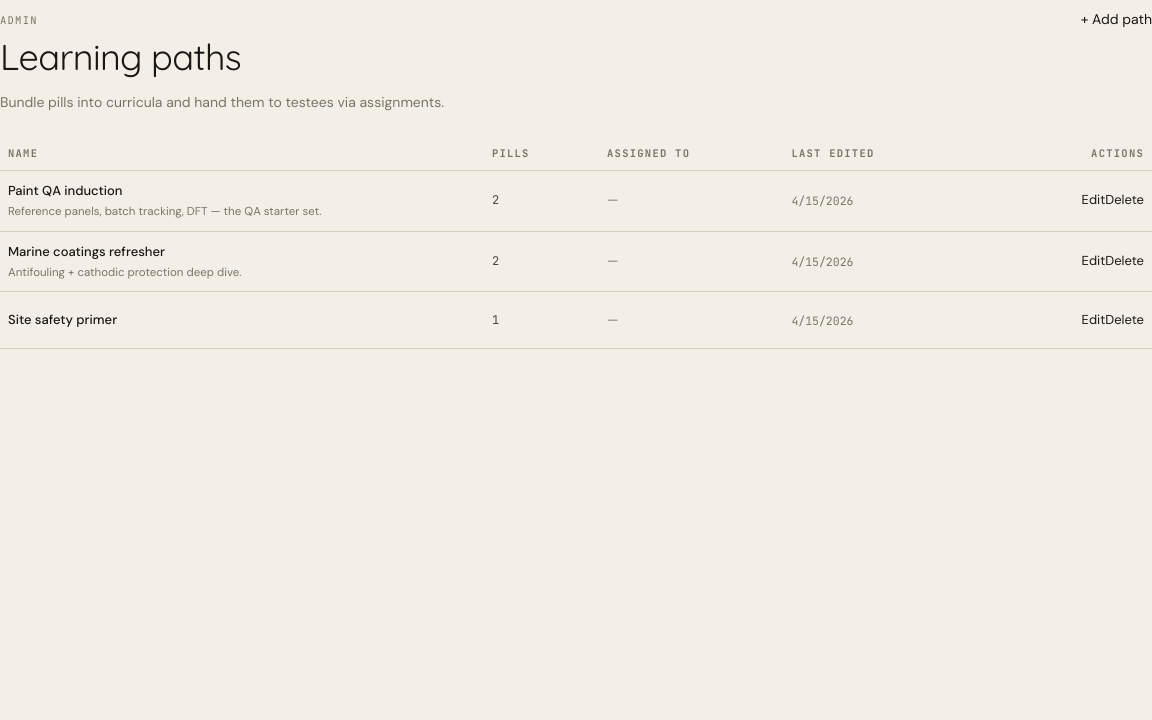
paths list — Delete confirmation flow › Cancel closes modal without firing DELETE
The width and height of the screenshot is (1152, 720).
Check: the text "Paint QA induction" is shown, box [8,182,122,198]
Click the button "Delete" in the row of "Paint QA induction" at coordinates (1125, 200), box [1105,182,1144,218]
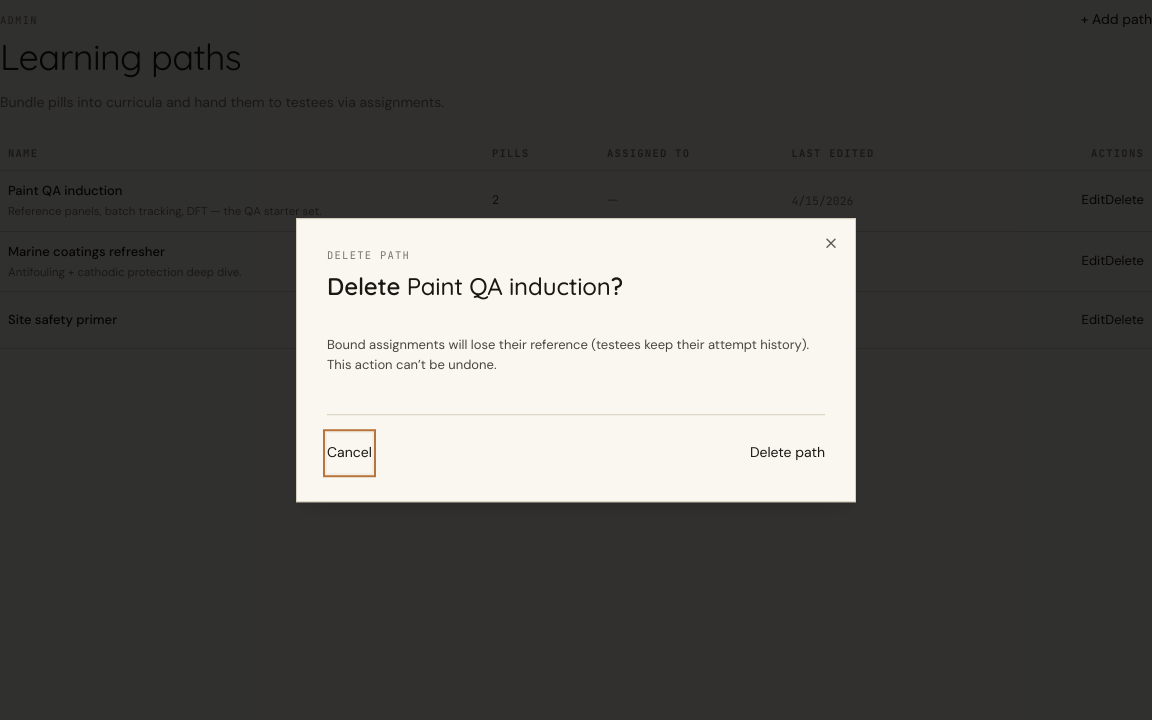
Check: the button with test id "paths-delete-confirm" is shown, box [750,433,825,473]
Click the button "Cancel" at coordinates (349, 453), box [327,433,372,473]
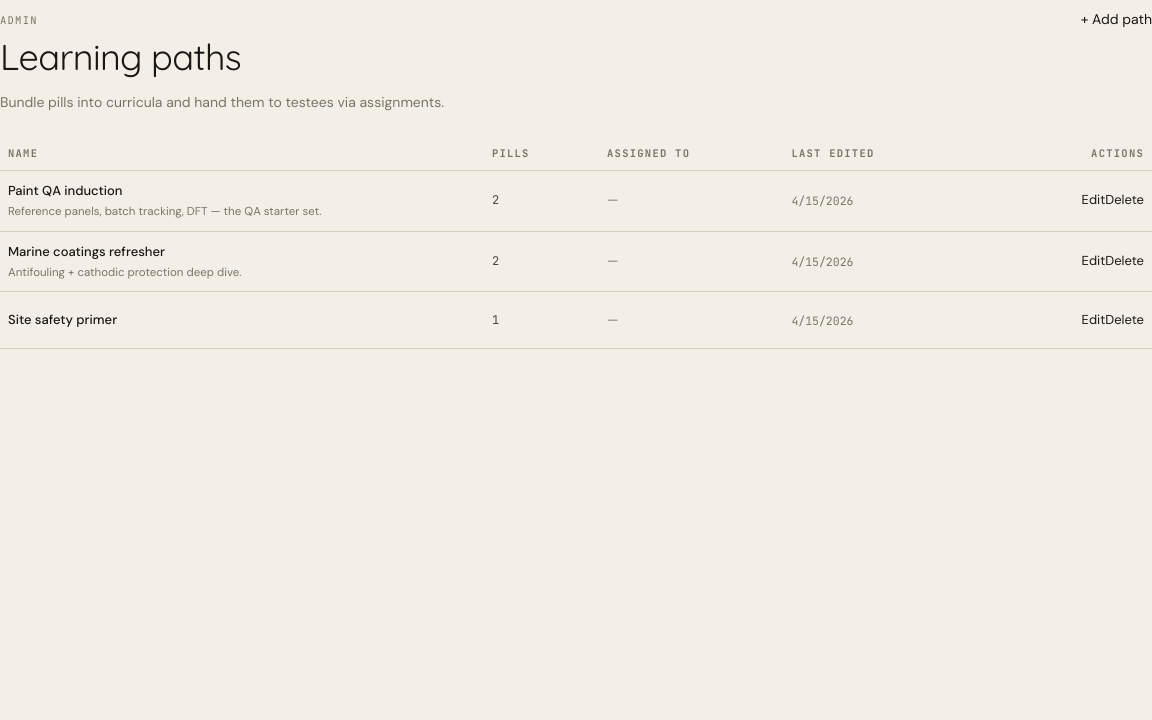
Check: the button with test id "paths-delete-confirm" is gone
